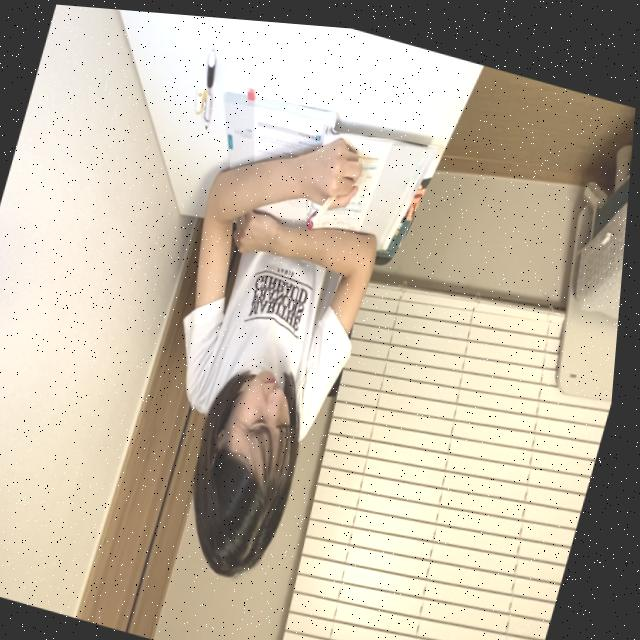studying-person: (106, 54, 460, 606)
